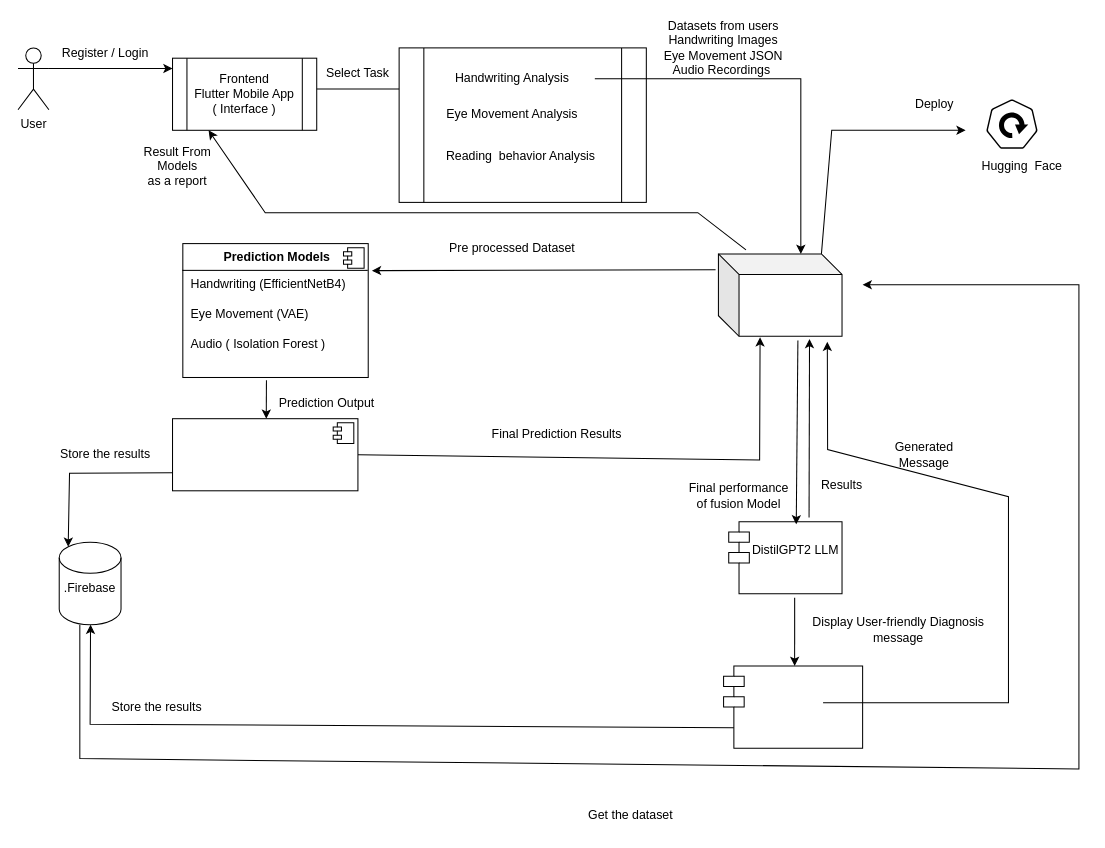
Some shapes in this 1105 by 848 pixel diagram are drawn without their labels. The centre of each missing label's shape, as x and y in pixels:
Backend ( Flask API ): (779,294)
Fusion Model ( Logistic Regression ): (264,454)
Message Generation (feedback): (793,706)
